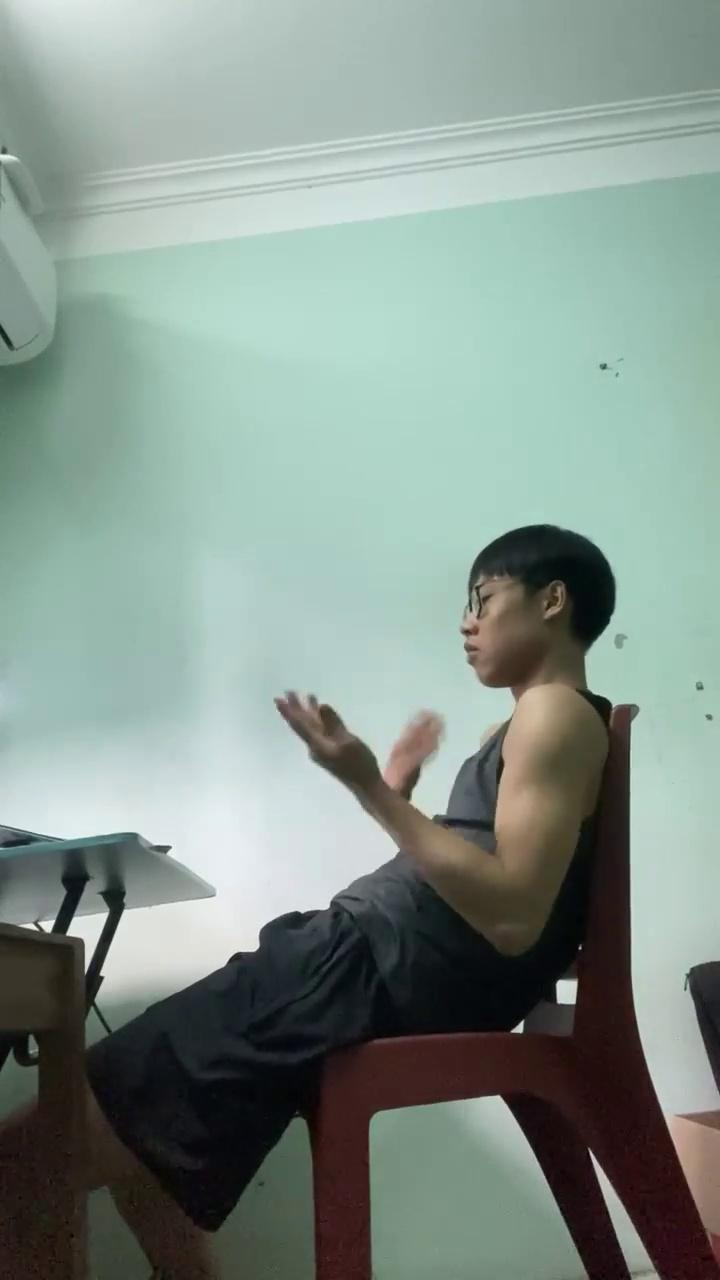BadPosture: (0, 524, 633, 1272), (186, 524, 615, 1064)
